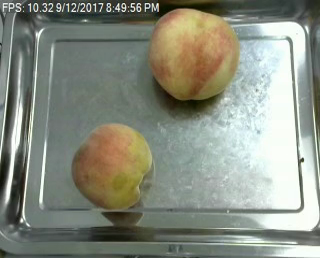Peach: (148, 7, 239, 100), (70, 122, 153, 211)
